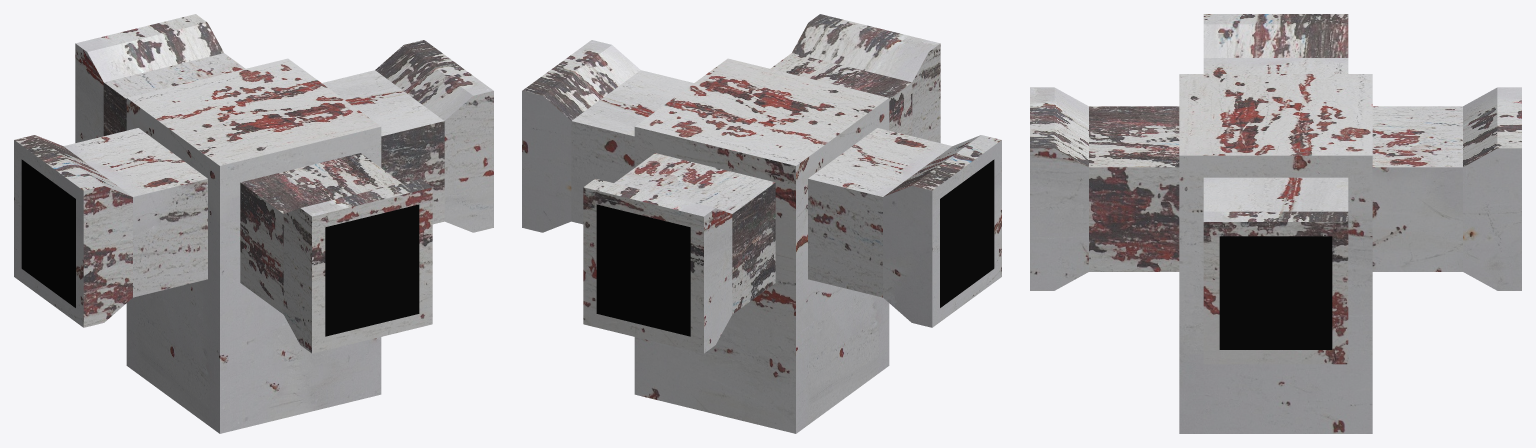
The model's file is MonopropEngine.fbx.
The picture shows the model from 3 angles, left to right: view 1: azimuth 30°, elevation 25°; view 2: azimuth 150°, elevation 25°; view 3: azimuth 270°, elevation 25°; orthographic projection. The views are drawn at different scales.
Visible parts, largest first — view 1: Cube.010; view 2: Cube.010; view 3: Cube.010.
Boxes of the visible parts, <box> form: Cube.010: <box>14,14,493,433</box>; Cube.010: <box>522,14,1001,433</box>; Cube.010: <box>1030,14,1521,433</box>.
Size of the model in its own units: 74.4 by 46.45 by 74.4.
